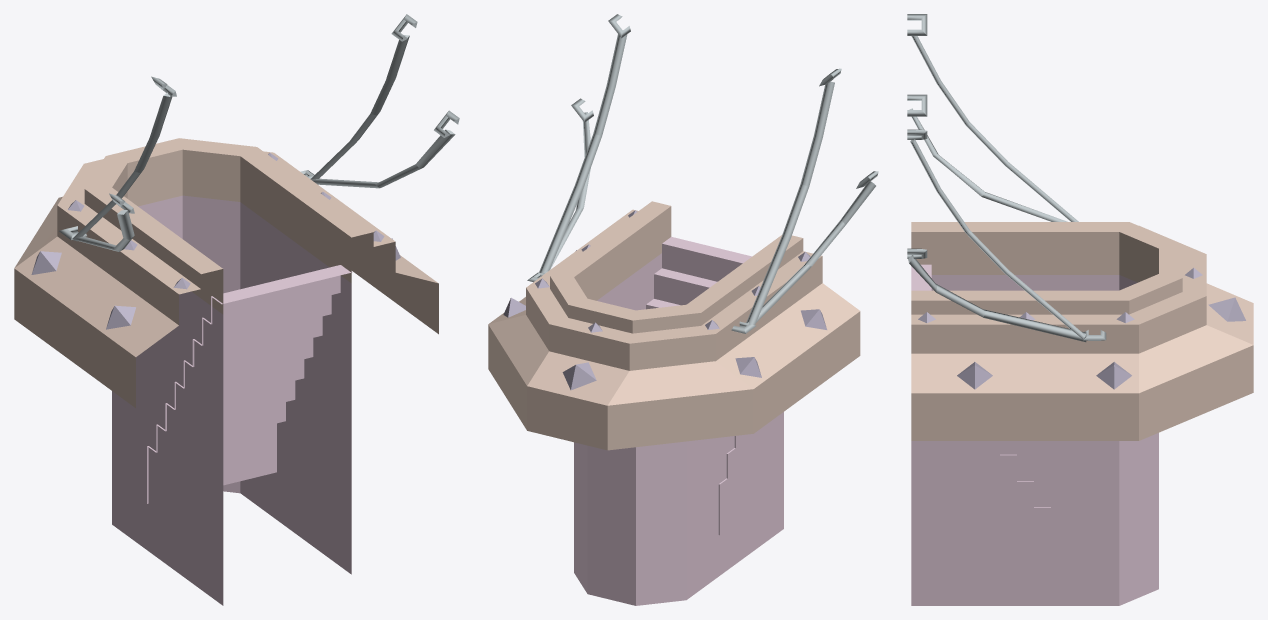
The picture shows the model from 3 angles, left to right: view 1: azimuth 30°, elevation 25°; view 2: azimuth 150°, elevation 25°; view 3: azimuth 270°, elevation 25°; orthographic projection. The views are drawn at different scales.
Visible parts, largest first — view 1: Object86; view 2: Object86; view 3: Object86.
Boxes of the visible parts, <box> form: Object86: <box>14,14,459,605</box>; Object86: <box>488,14,878,605</box>; Object86: <box>907,14,1253,605</box>.
Bounding box in the file's own units: 29344 × 44413 × 27657.
